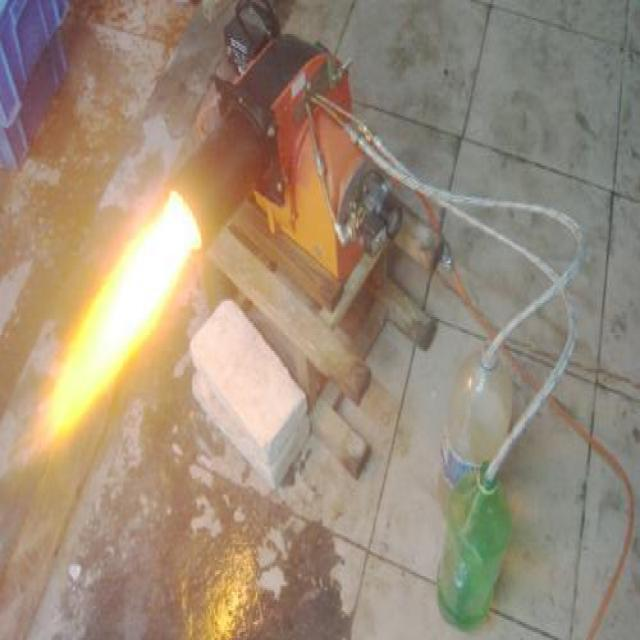Fire: (28, 154, 202, 440)
